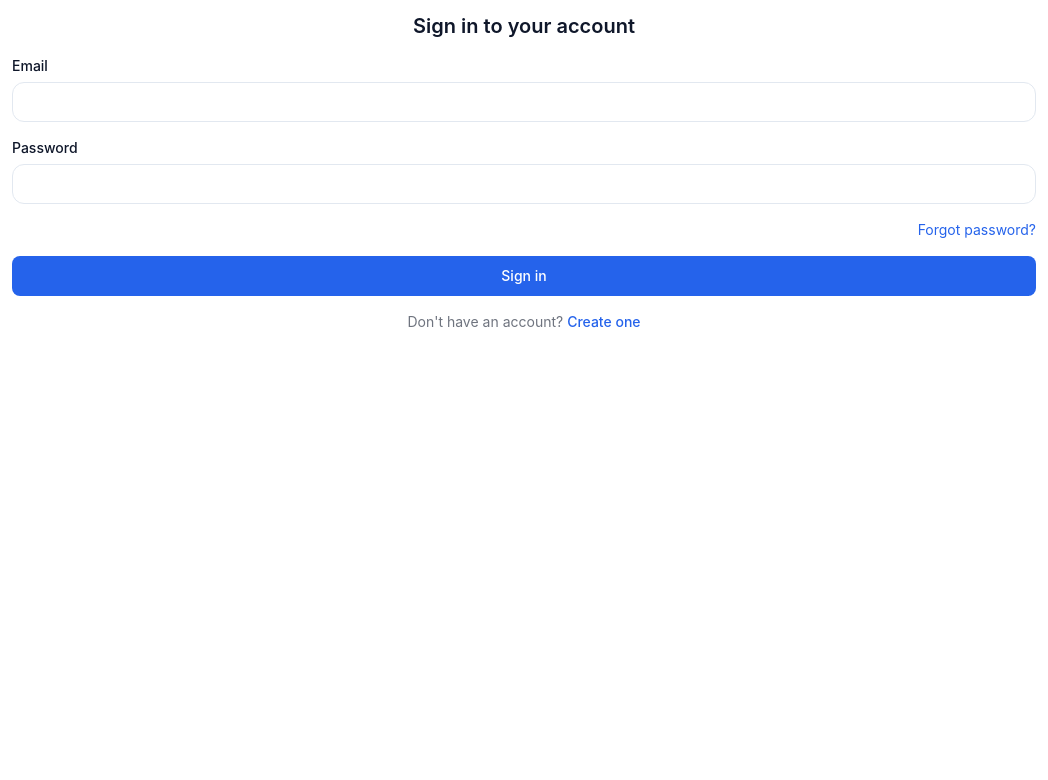
LoginPage (integration) › redirects back to the originally-requested page after login
This screenshot has width=1048, height=780.
Step 1. Type "jane@example.com" into the field labelled "Email" → (524,102), box [12,82,1036,122]
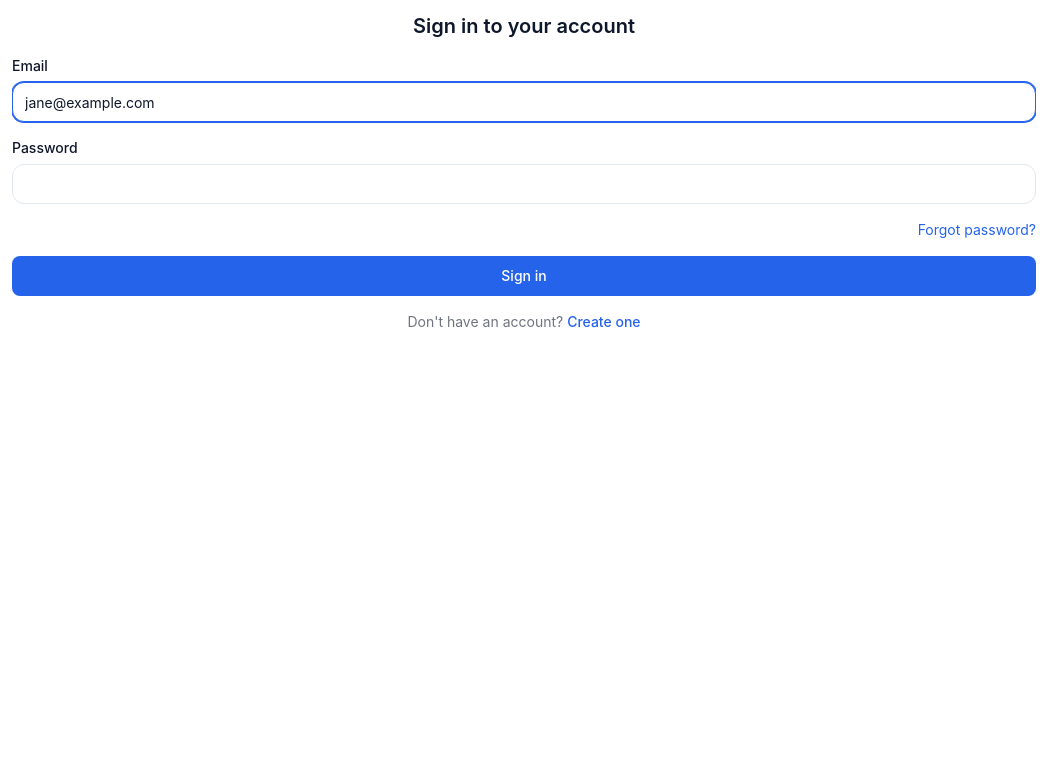
Step 2. Type "Password123!" into the password field labelled "Password" → (524,184), box [12,164,1036,204]
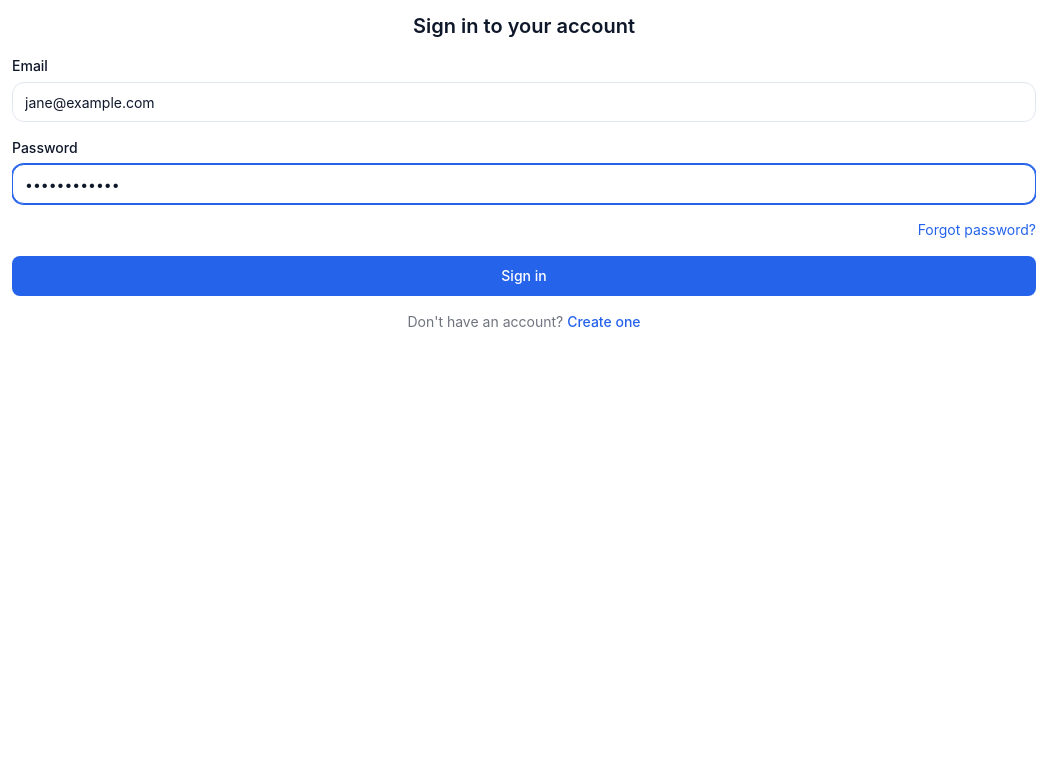
Step 3. Click the button "Sign in" → (524,276), box [12,256,1036,296]
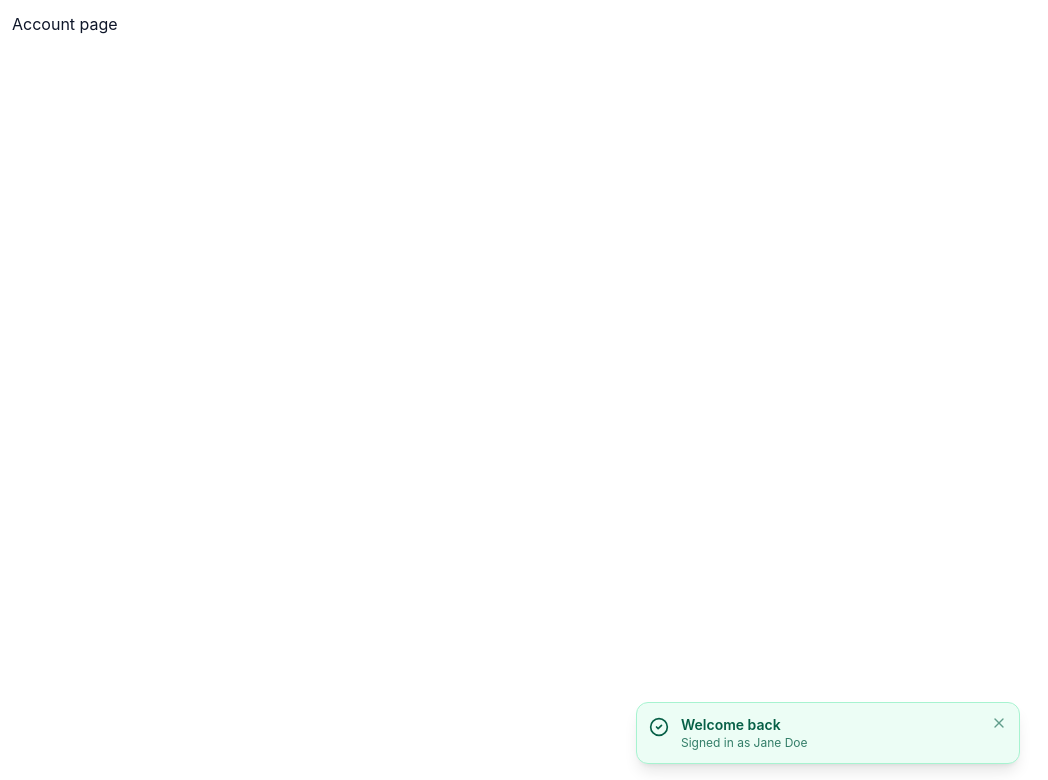
Result: the text "Account page" is shown at [12,14,118,34]
